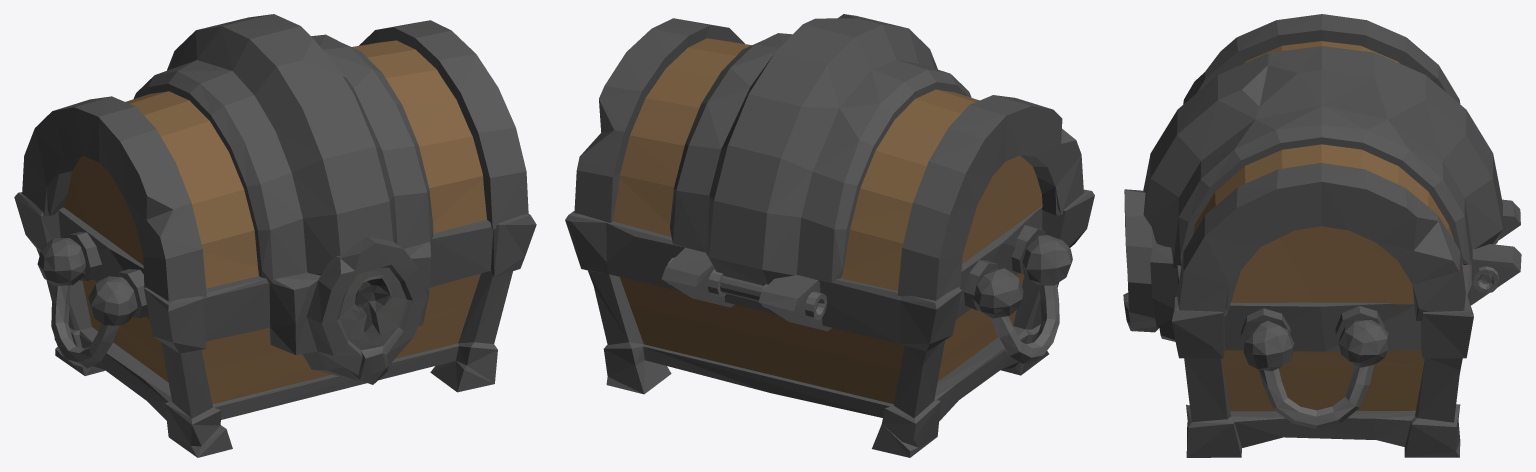
Rendered from Chest_003.fbx.
The picture shows the model from 3 angles, left to right: view 1: azimuth 30°, elevation 25°; view 2: azimuth 150°, elevation 25°; view 3: azimuth 270°, elevation 25°; orthographic projection. The views are drawn at different scales.
Visible parts, largest first — view 1: Chest_003.002_001, Chest_003.002_002; view 2: Chest_003.002_001, Chest_003.002_002; view 3: Chest_003.002_001, Chest_003.002_002.
Part boxes in pixels (x1,y1,x2,y2): Chest_003.002_001: (22, 14, 528, 301); Chest_003.002_002: (14, 192, 536, 457); Chest_003.002_001: (574, 14, 1083, 320); Chest_003.002_002: (565, 189, 1094, 457); Chest_003.002_001: (1143, 14, 1502, 320); Chest_003.002_002: (1123, 189, 1521, 457).
Size of the model in its own units: 0.9705 by 0.7327 by 0.8035.
